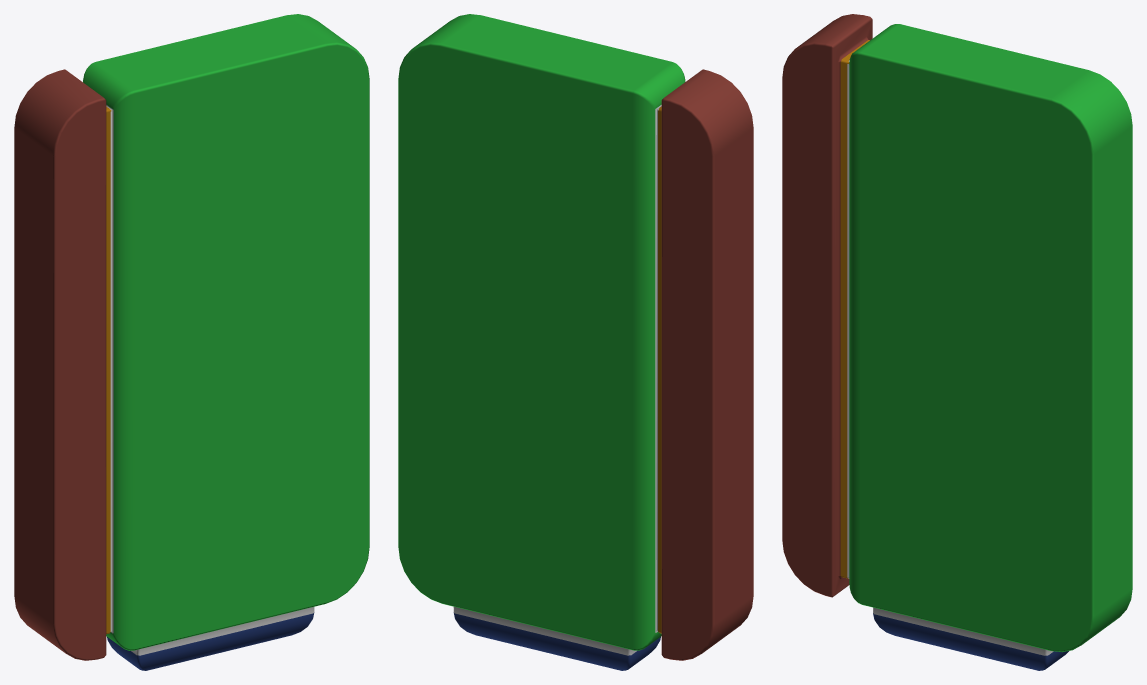
The model's file is Misc_11.fbx.
3 views of the same model, side by side, from view 1: azimuth 30°, elevation 25°; view 2: azimuth 150°, elevation 25°; view 3: azimuth 330°, elevation 25° (orthographic).
Parts seen in each view (by area): view 1: SetA_Misc_11; view 2: SetA_Misc_11; view 3: SetA_Misc_11.
Boxes of the visible parts, x1=… form: SetA_Misc_11: x1=14, y1=14, x2=369, y2=670; SetA_Misc_11: x1=398, y1=14, x2=753, y2=670; SetA_Misc_11: x1=782, y1=14, x2=1132, y2=670.
Size of the model in its own units: 0.2998 by 0.5408 by 0.0674.
